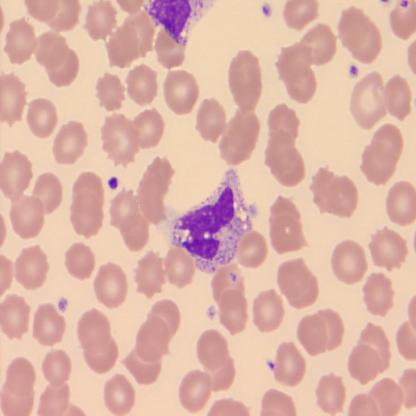Metamyelocyte: (155, 165, 254, 273)
